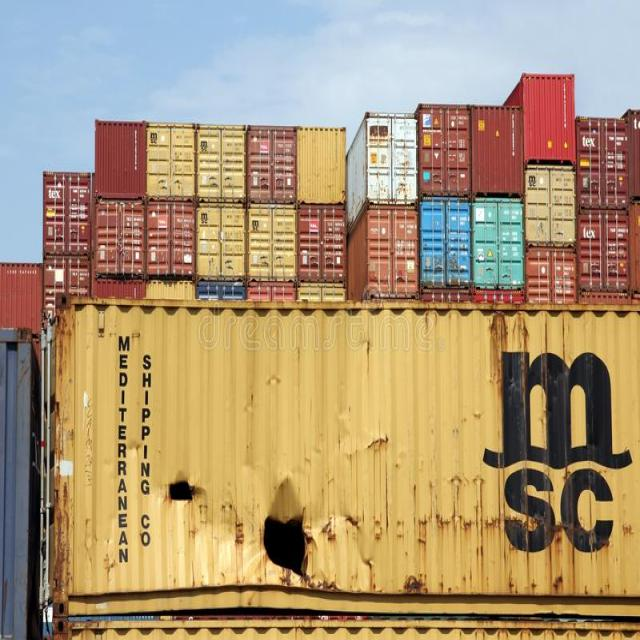hole: (256, 493, 320, 591), (153, 465, 210, 525)
